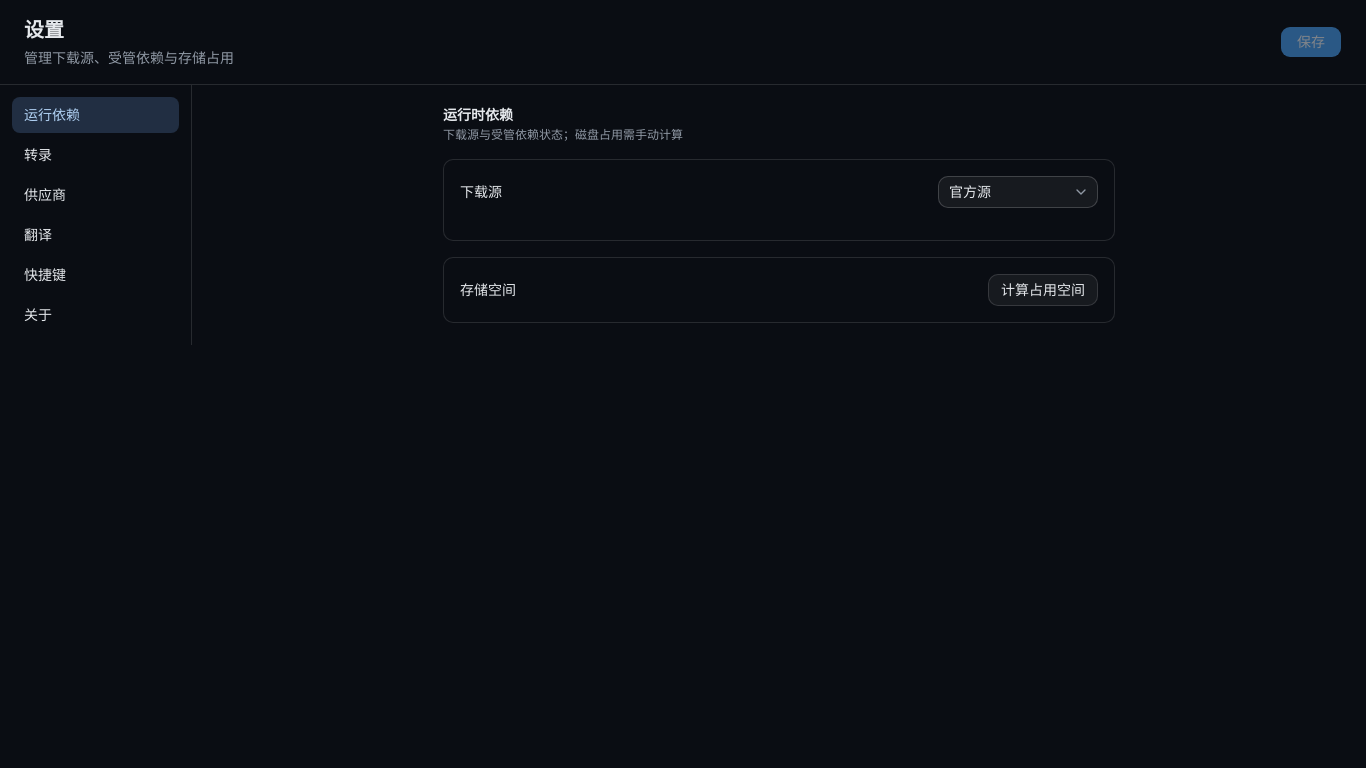
Test: Settings legacy Python cleanup › keeps the residue and retry action visible when cleanup fails
This screenshot has width=1366, height=768.
Click the button "计算占用空间": click(1043, 290) [988,274,1098,306]
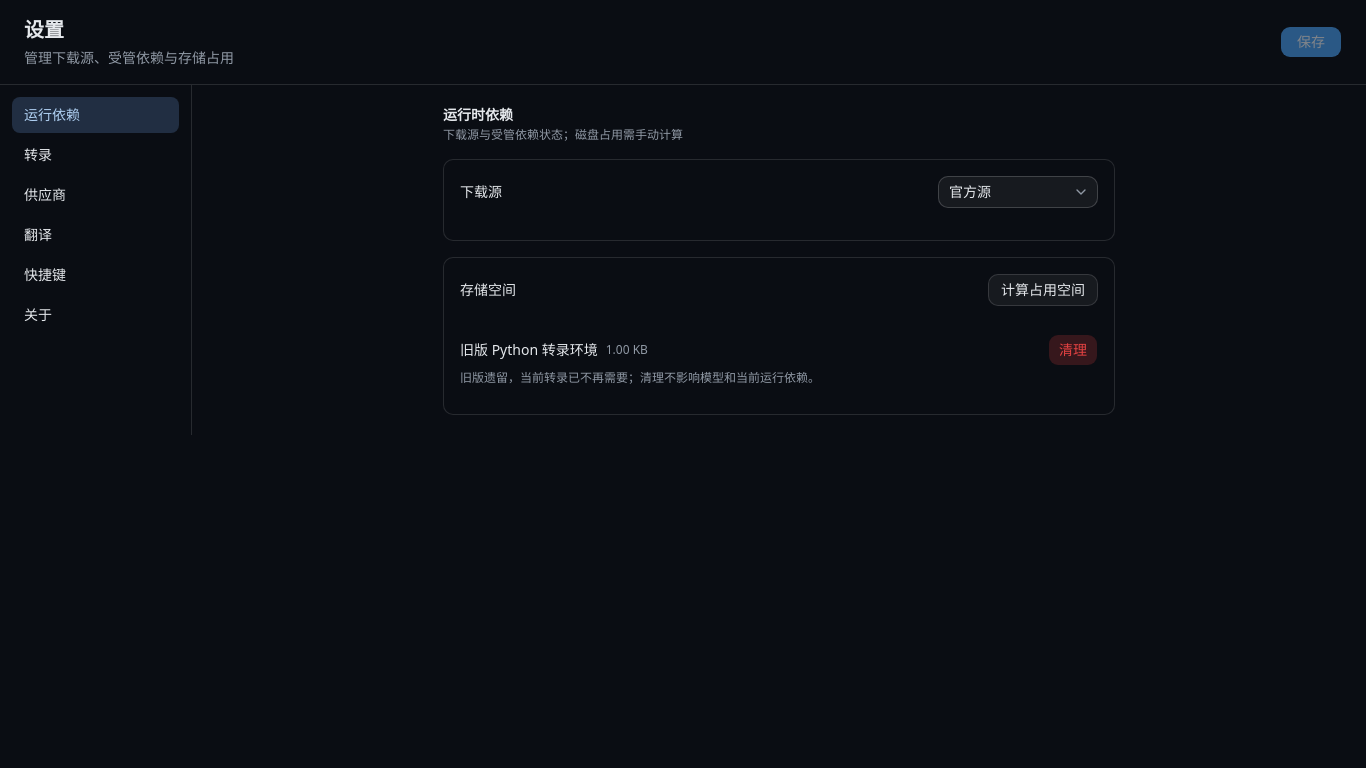
Click the button "清理": click(1073, 350) [1048,334,1098,366]
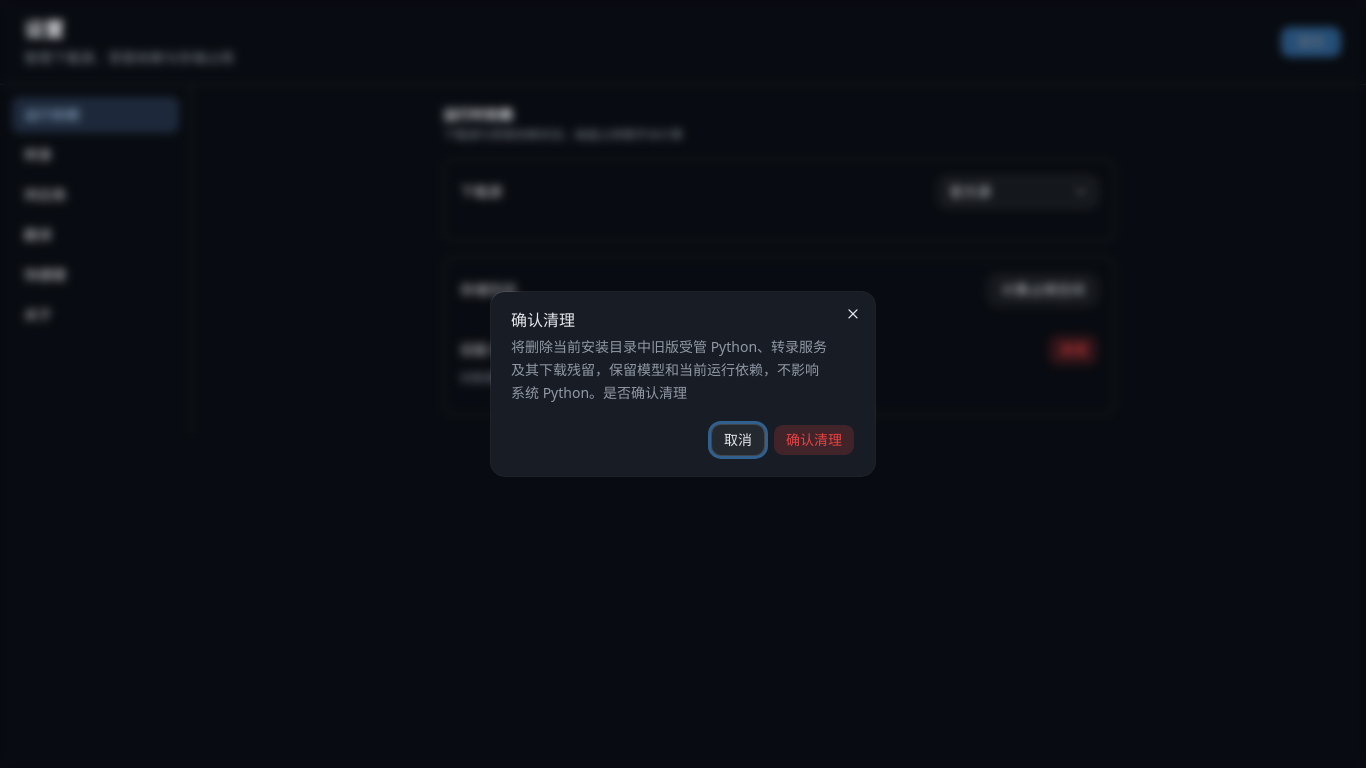
Click the button "确认清理": click(814, 440) [773,424,855,456]
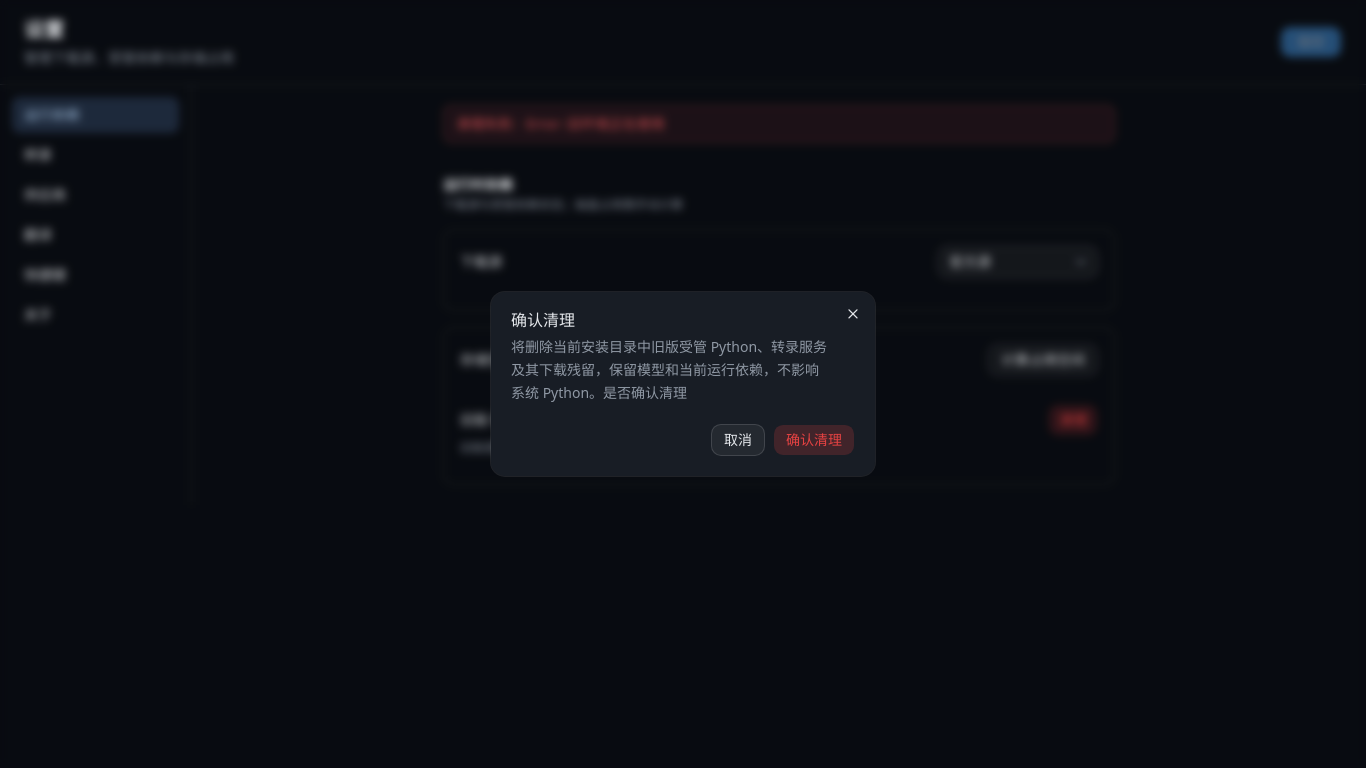
Now the text "旧版 Python 转录环境" is shown, box [460,410,598,430]
Now the button "确认清理" is enabled, box [773,424,855,456]
Now the text "清理失败：Error: 旧环境正在使用" is shown, box [443,105,1115,143]
